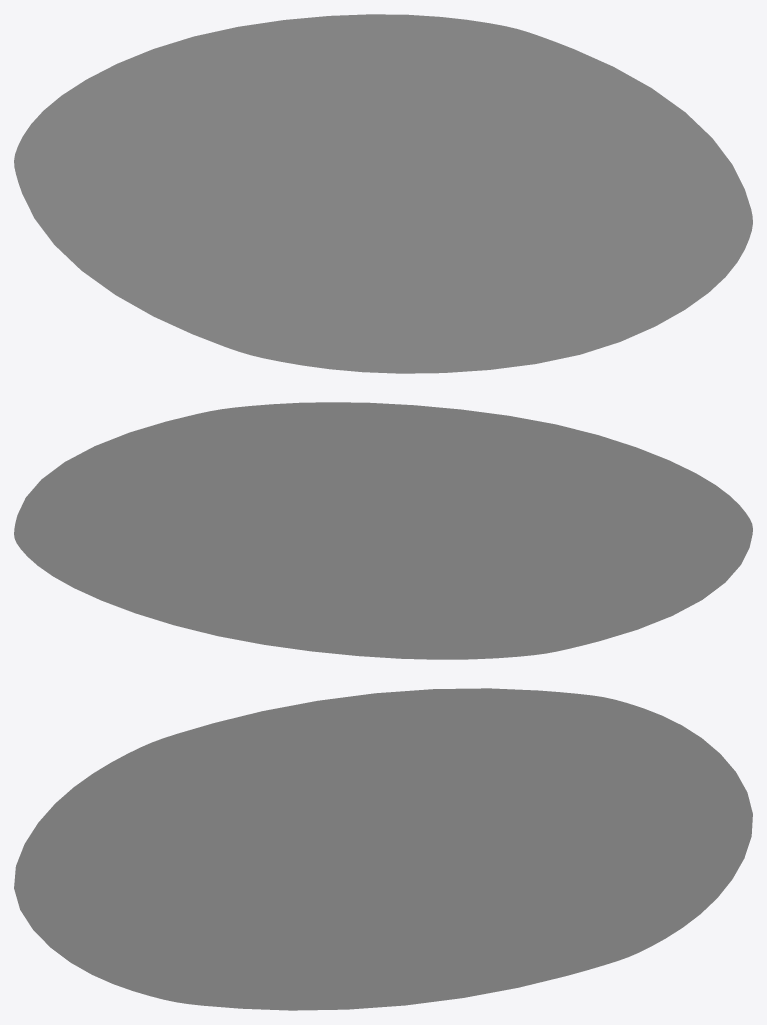
The model's file is Brassard_Pastille.fbx.
3 views of the same model, one above another, from view 1: azimuth 30°, elevation 25°; view 2: azimuth 150°, elevation 25°; view 3: azimuth 270°, elevation 25° (orthographic). The views are drawn at different scales.
Parts seen in each view (by area): view 1: Brassard_Pastille; view 2: Brassard_Pastille; view 3: Brassard_Pastille.
Part boxes in pixels (left/top/right/bottom): Brassard_Pastille: left=14, top=14, right=752, bottom=373; Brassard_Pastille: left=14, top=402, right=752, bottom=659; Brassard_Pastille: left=14, top=688, right=752, bottom=1010.
Bounding box in the file's own units: 1.87 × 0.174 × 1.89.
